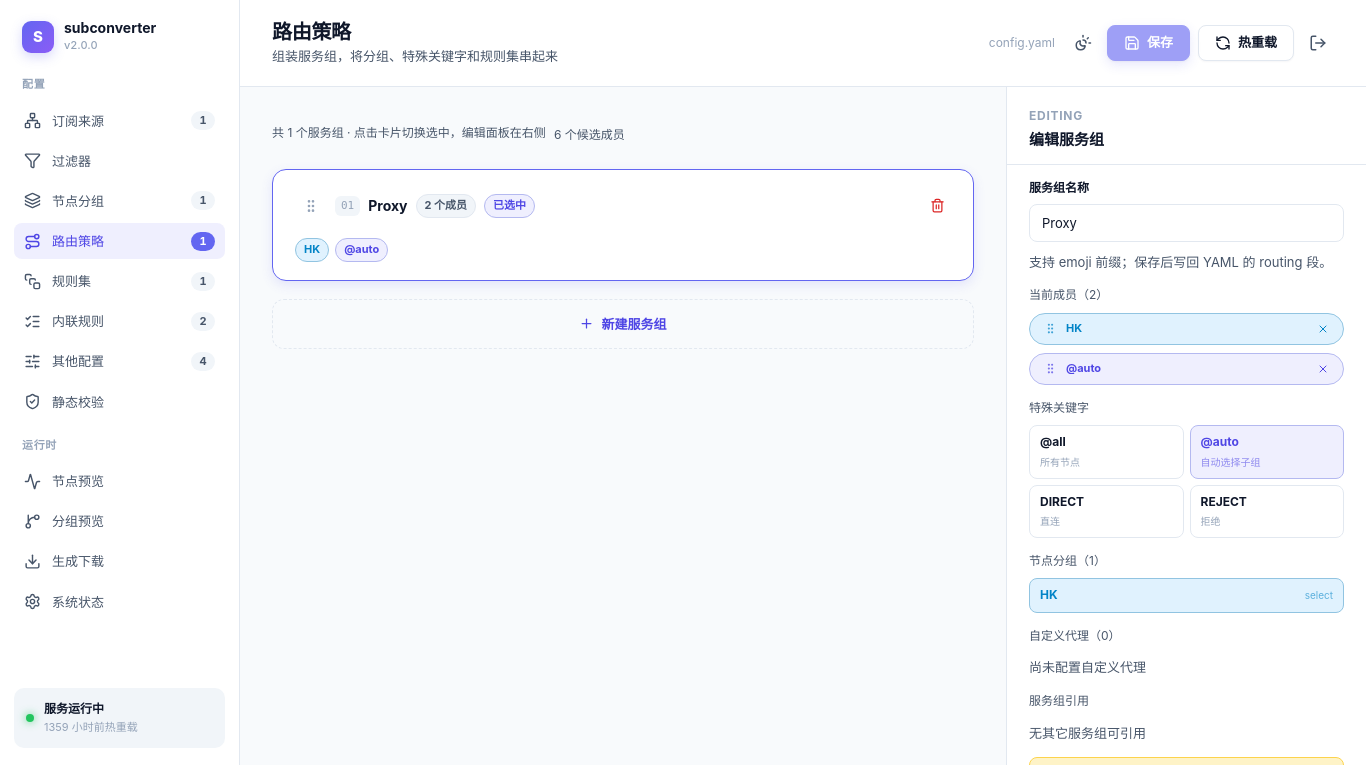
Test: high fidelity interactions › adds a routing member from the A4 palette
Expected: the heading "路由策略" is shown, [272,20,351,44]
Expected: the number of buttons named "拖拽成员排序" is 2, [1042,321,1058,337]; [1042,361,1058,377]
Click the button "@all 所有节点". click: [1106, 452]
box: [1029,426,1184,479]
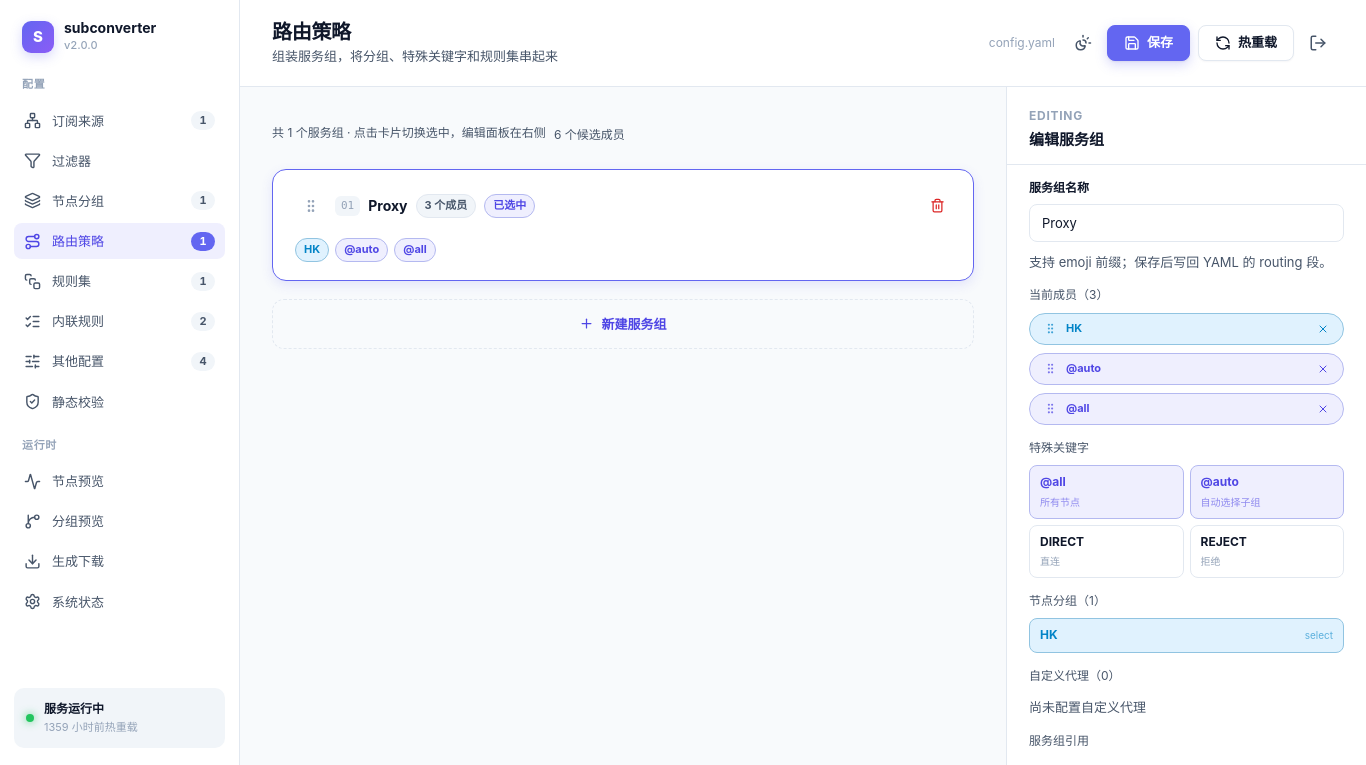
Expected: the button "保存" is enabled, [1107,25,1190,61]
Expected: the text "@all" below "个候选成员" is shown, [403,242,427,256]
